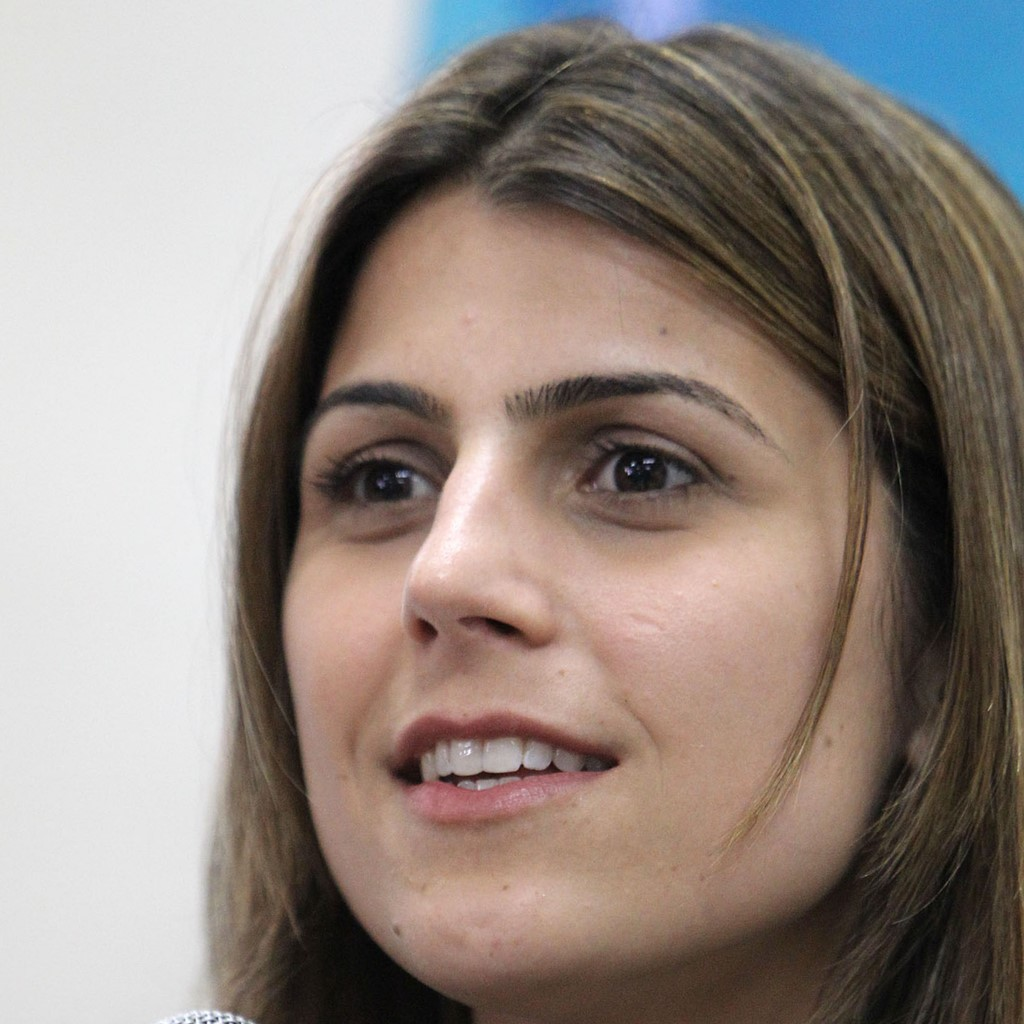sin_mascara: (276, 168, 918, 1008)
